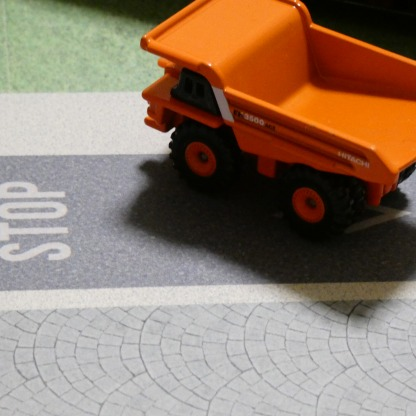car: (143, 0, 415, 237)
